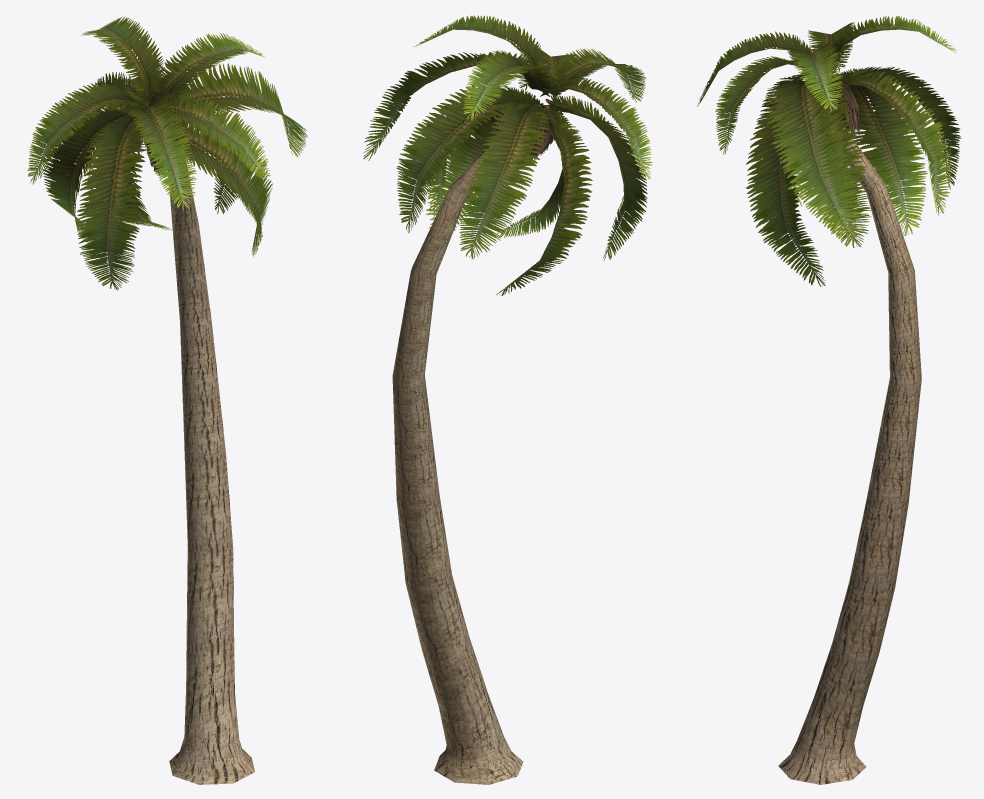
File: PBC_Palms_Pack_Plam_03.fbx
The picture shows the model from 3 angles, left to right: view 1: azimuth 30°, elevation 25°; view 2: azimuth 150°, elevation 25°; view 3: azimuth 270°, elevation 25°; orthographic projection. The views are drawn at different scales.
Visible parts, largest first — view 1: PBC_Palms_Pack_Palm_03; view 2: PBC_Palms_Pack_Palm_03; view 3: PBC_Palms_Pack_Palm_03.
Part boxes in pixels (box(x1,y1,x2,y2)): PBC_Palms_Pack_Palm_03: box(27, 16, 307, 784); PBC_Palms_Pack_Palm_03: box(363, 15, 652, 784); PBC_Palms_Pack_Palm_03: box(697, 15, 961, 784).
Bounding box in the file's own units: 11.16 × 28.19 × 9.9.
